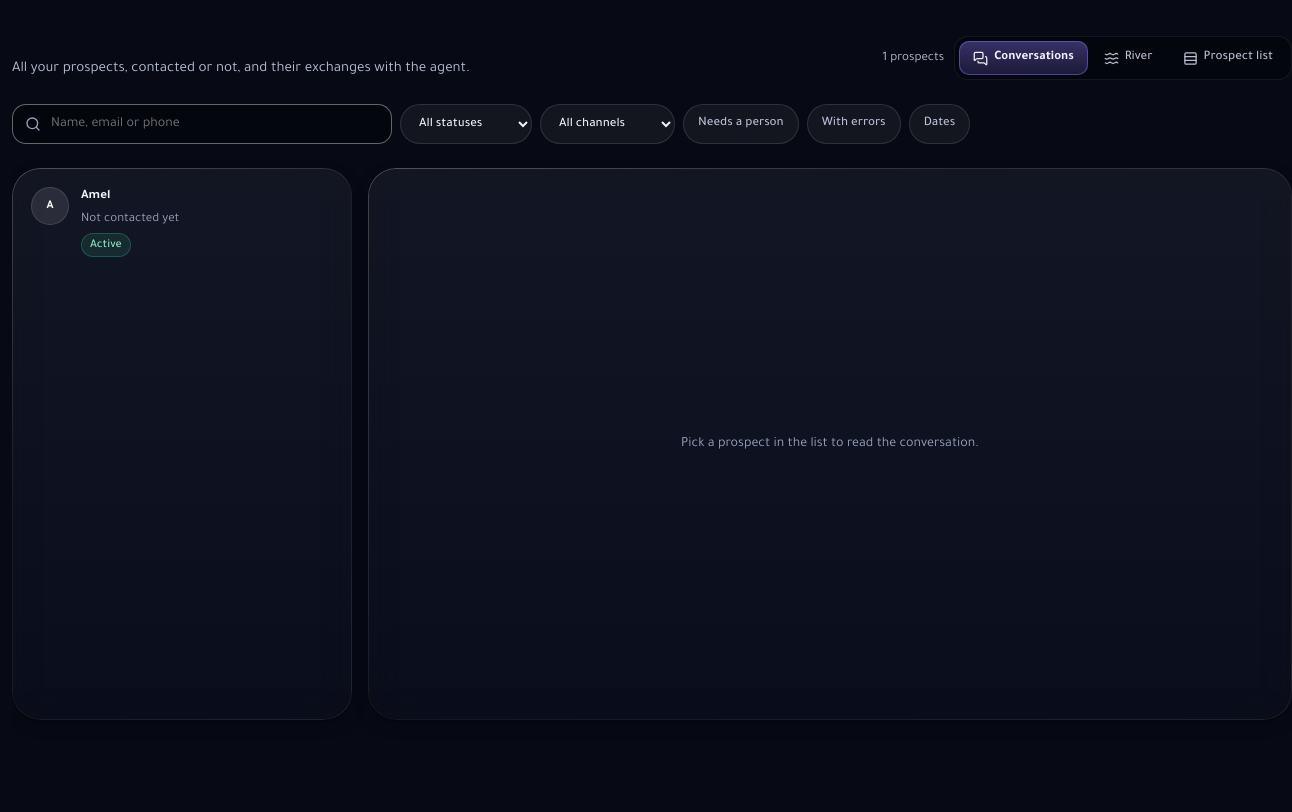
Test: Conversations (search, filters, pages) › says so when nothing matches the filters
The image size is (1292, 812).
Check: the text "Amel" is shown, box [81,187,110,206]
Select "Closed" in the 1st dropdown named "Status" at {"x": 466, "y": 124}, box [400,104,532,144]
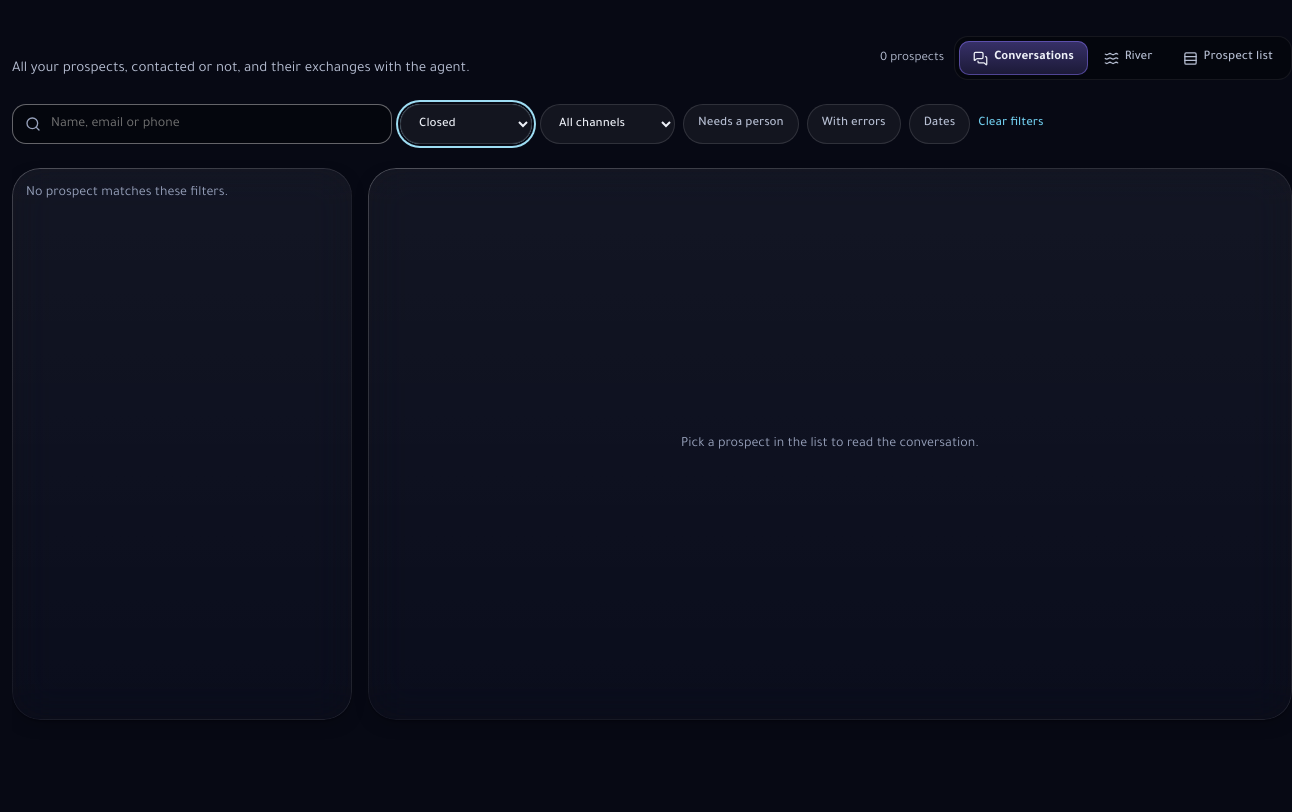
Check: the text with test id "convo-list-empty" shows "No prospect matches", box [26,186,228,200]
